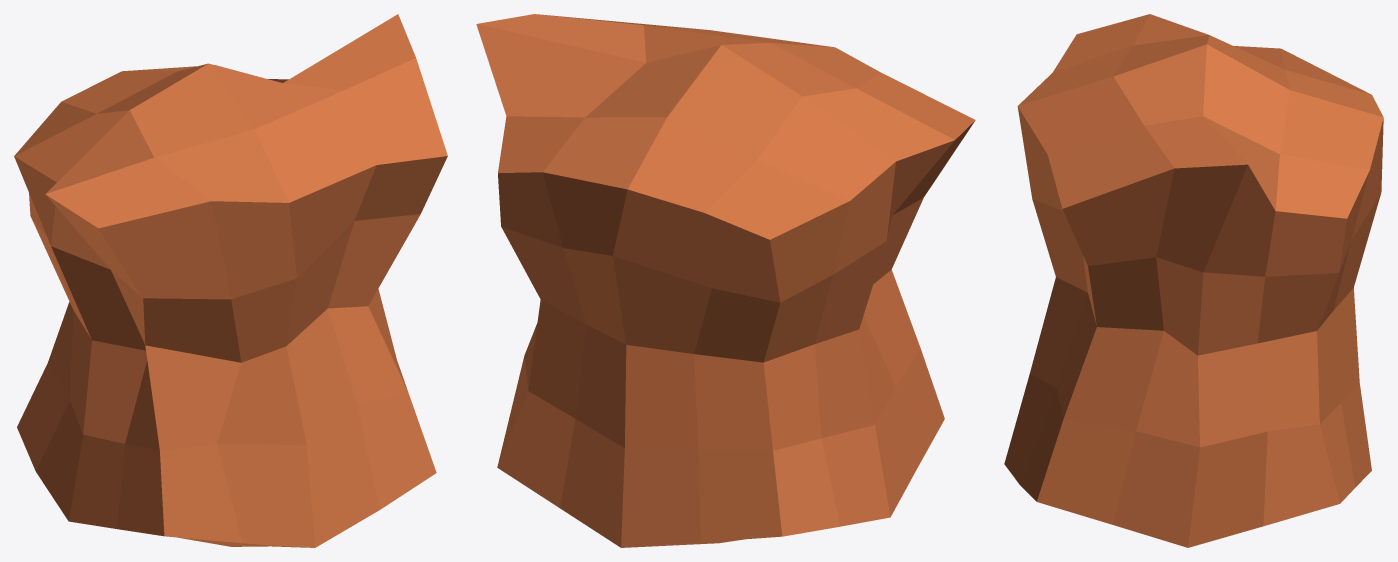
Rendered from Sandstone 4.fbx.
3 views of the same model, side by side, from view 1: azimuth 30°, elevation 25°; view 2: azimuth 150°, elevation 25°; view 3: azimuth 270°, elevation 25° (orthographic). The views are drawn at different scales.
Parts seen in each view (by area): view 1: Sandstone Size 4; view 2: Sandstone Size 4; view 3: Sandstone Size 4.
Boxes of the visible parts, box(x1,y1,x2,y2) form: Sandstone Size 4: box(14, 14, 447, 547); Sandstone Size 4: box(476, 14, 975, 547); Sandstone Size 4: box(1004, 14, 1383, 547).
Size of the model in its own units: 430 by 490 by 348.
